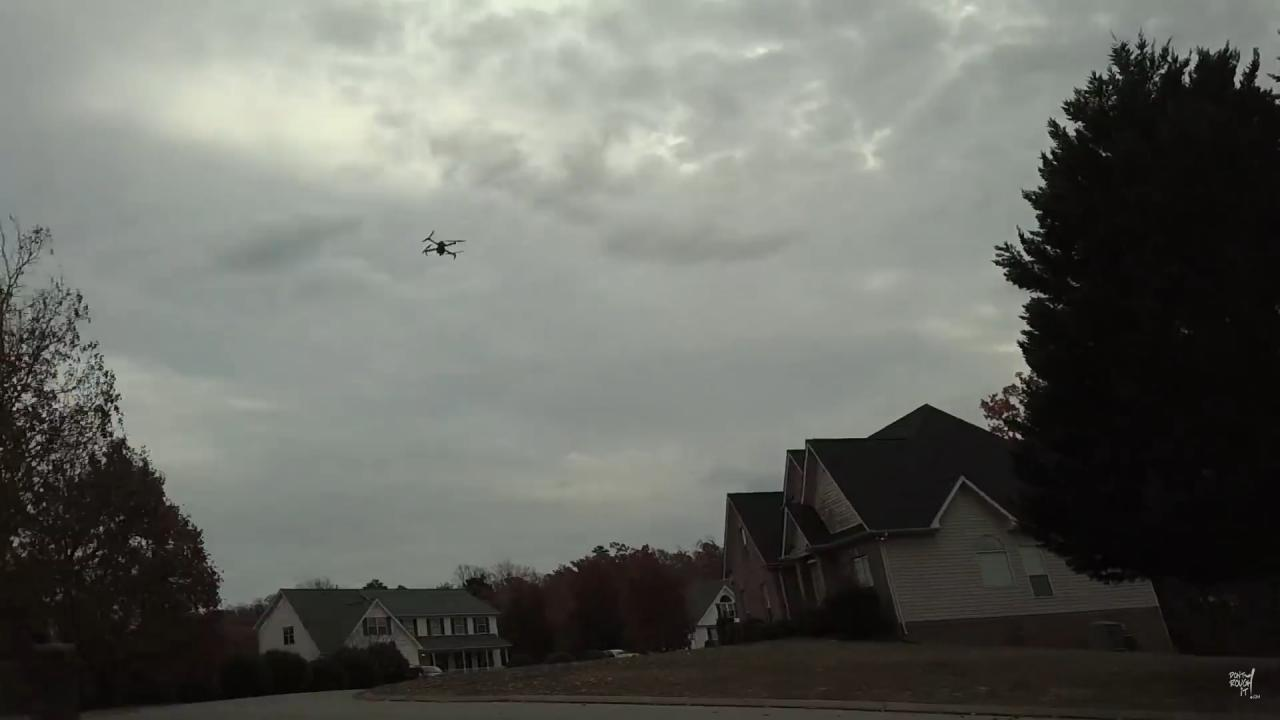Drone: (409, 220, 474, 272)
